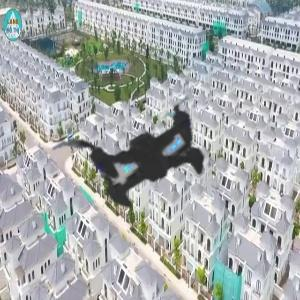drone: (20, 22, 294, 296)
